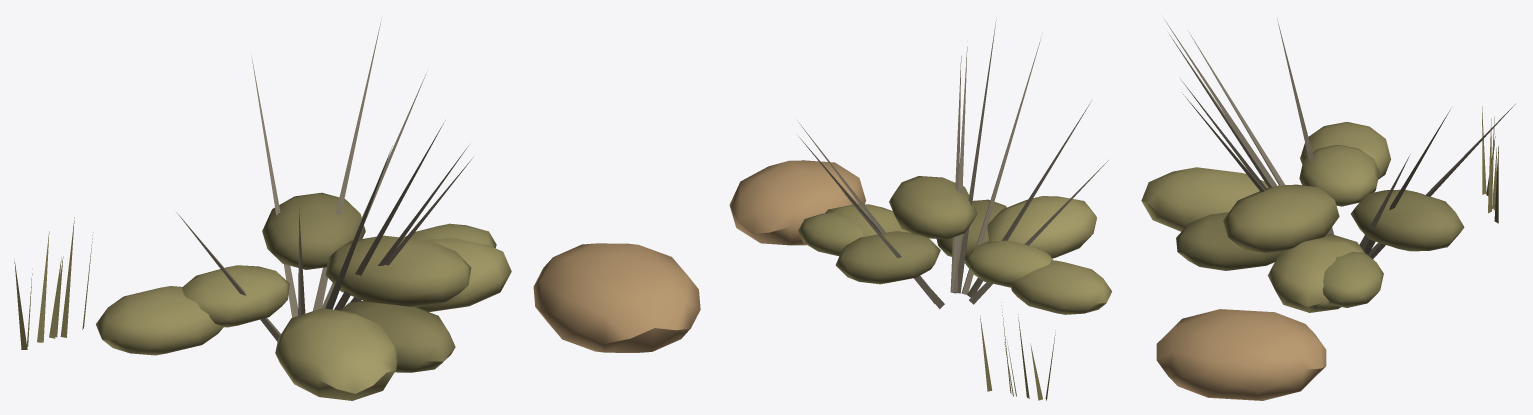
Rendered from desert_scrub_c_lod2.glb.
3 views of the same model, side by side, from view 1: azimuth 30°, elevation 25°; view 2: azimuth 150°, elevation 25°; view 3: azimuth 270°, elevation 25° (orthographic). The views are drawn at different scales.
Visible parts, largest first — view 1: Surface.001; view 2: Surface.001; view 3: Surface.001.
Boxes of the visible parts, <box> form: Surface.001: <box>14,19,700,400</box>; Surface.001: <box>729,20,1111,400</box>; Surface.001: <box>1141,18,1515,400</box>.
Size of the model in its own units: 4.08 by 2.21 by 2.79.
